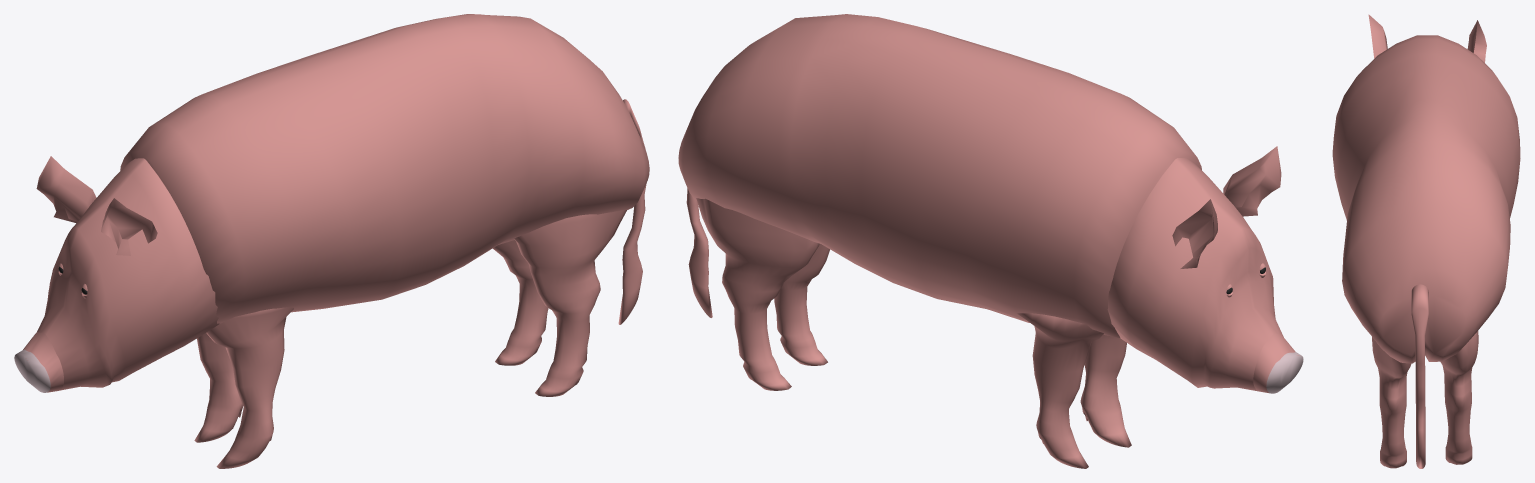
File: LBSR_Pig.fbx
3 views of the same model, side by side, from view 1: azimuth 30°, elevation 25°; view 2: azimuth 150°, elevation 25°; view 3: azimuth 270°, elevation 25° (orthographic). The views are drawn at different scales.
Parts seen in each view (by area): view 1: body, head, left_back_leg, left_front_leg, right_back_leg, right_front_leg, right_ear, nose, tail, left_ear; view 2: body, head, right_back_leg, right_front_leg, left_front_leg, left_back_leg, left_ear, nose, tail, right_ear; view 3: body, right_back_leg, left_back_leg, tail, right_ear, left_ear.
Boxes of the visible parts, x1,y1,x2,y2 form: body: [120, 14, 649, 323]; head: [37, 158, 219, 390]; left_back_leg: [514, 210, 626, 396]; left_front_leg: [206, 307, 293, 468]; right_back_leg: [493, 240, 548, 365]; right_front_leg: [194, 333, 242, 442]; right_ear: [36, 156, 96, 223]; nose: [14, 332, 63, 392]; tail: [618, 99, 646, 324]; left_ear: [101, 198, 157, 255]; body: [678, 14, 1201, 337]; head: [1107, 158, 1283, 391]; right_back_leg: [696, 198, 819, 390]; right_front_leg: [1017, 313, 1103, 468]; left_front_leg: [1080, 335, 1131, 447]; left_back_leg: [774, 244, 829, 365]; left_ear: [1223, 146, 1281, 216]; nose: [1253, 333, 1303, 393]; tail: [686, 188, 712, 317]; right_ear: [1172, 199, 1217, 268]; body: [1332, 35, 1520, 363]; right_back_leg: [1440, 331, 1478, 464]; left_back_leg: [1372, 337, 1411, 468]; tail: [1411, 284, 1428, 468]; right_ear: [1467, 20, 1486, 62]; left_ear: [1368, 14, 1387, 58].
Size of the model in its own units: 4 by 2.33 by 1.26.
